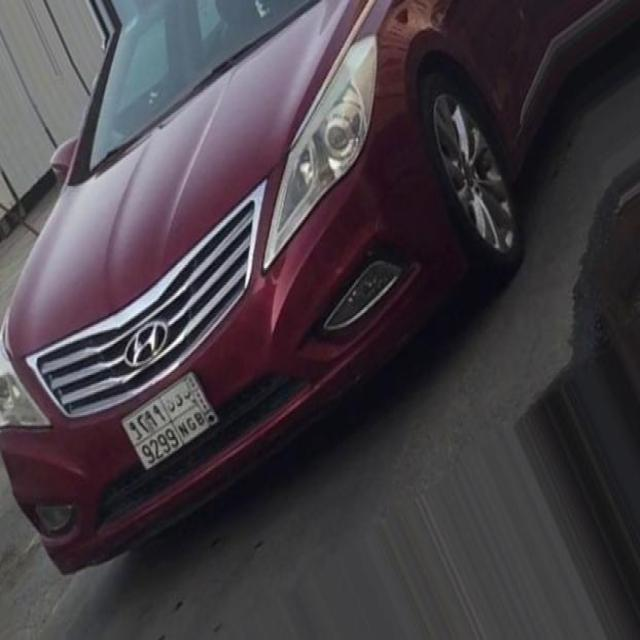Car-plate: (112, 358, 229, 486)
